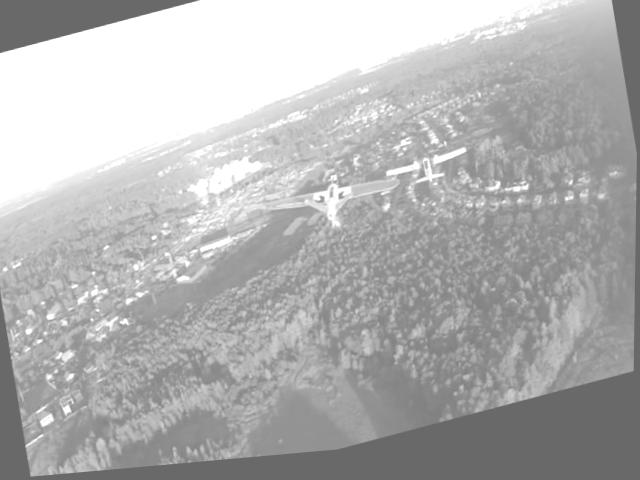hedef: (268, 166, 402, 252), (377, 142, 482, 212)
